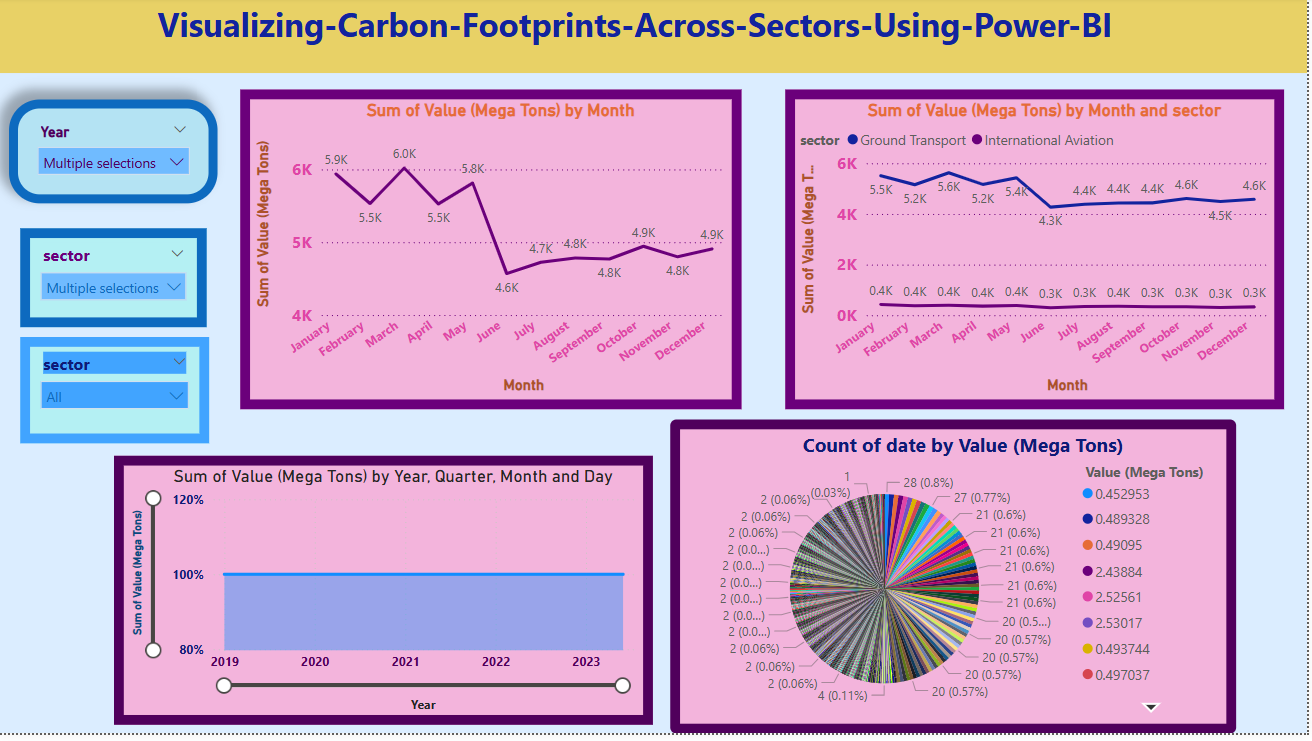

What the dashboard file says about the page in this screenshot:
{"tool":"powerbi","page":{"name":"Page 1","canvas":[1280,720],"ordinal":0},"visuals":[{"type":"textbox","box":[0,0,1280.3,74.1],"z":0},{"type":"lineChart","fields":{"Category":["dataset.date.Variation.Date Hierarchy.Year","dataset.date.Variation.Date Hierarchy.Quarter","dataset.date.Variation.Date Hierarchy.Month","dataset.date.Variation.Date Hierarchy.Day"],"Y":["Sum(dataset. Value (Mega Tons))"]},"box":[236,90.5,490.4,313],"z":1000},{"type":"slicer","fields":{"Values":["dataset.Year"]},"box":[9.8,100.3,204.2,101.5],"z":2000},{"type":"lineChart","fields":{"Category":["dataset.date.Variation.Date Hierarchy.Year","dataset.date.Variation.Date Hierarchy.Quarter","dataset.date.Variation.Date Hierarchy.Month","dataset.date.Variation.Date Hierarchy.Day"],"Y":["Sum(dataset. Value (Mega Tons))"],"Series":["dataset.sector"]},"box":[769.2,90.5,487.9,313],"z":3000},{"type":"slicer","fields":{"Values":["dataset.sector"]},"box":[20.8,226.2,182.2,96.6],"z":4000},{"type":"pieChart","fields":{"Category":["dataset. Value (Mega Tons)"],"Y":["CountNonNull(dataset.date)"]},"box":[656.7,413.3,553.9,306.9],"z":5000},{"type":"hundredPercentStackedAreaChart","fields":{"Y":["Sum(dataset. Value (Mega Tons))"],"Category":["dataset.date.Variation.Date Hierarchy.Year","dataset.date.Variation.Date Hierarchy.Quarter","dataset.date.Variation.Date Hierarchy.Month","dataset.date.Variation.Date Hierarchy.Day"]},"box":[112.5,448.8,527,262.9],"z":6000},{"type":"slicer","fields":{"Values":["dataset.sector"]},"box":[20.8,332.6,184.6,103.9],"z":7000}]}

Visuals, with their boxes in screenshot pixels (x1, y1, x2, y2), scaled from the page's 1280x720 canvas onto the 1312x741 screenshot:
textbox: <box>0,0,1311,76</box>
lineChart - dataset.date.Variation.Date Hierarchy.Year x dataset.date.Variation.Date Hierarchy.Quarter: <box>242,93,745,415</box>
slicer - dataset.Year: <box>10,103,219,208</box>
lineChart - dataset.date.Variation.Date Hierarchy.Year x dataset.date.Variation.Date Hierarchy.Quarter: <box>788,93,1289,415</box>
slicer - dataset.sector: <box>21,233,208,332</box>
pieChart - dataset. Value (Mega Tons) x CountNonNull(dataset.date): <box>673,425,1241,740</box>
hundredPercentStackedAreaChart - Sum(dataset. Value (Mega Tons)) x dataset.date.Variation.Date Hierarchy.Year: <box>115,462,655,732</box>
slicer - dataset.sector: <box>21,342,211,449</box>
